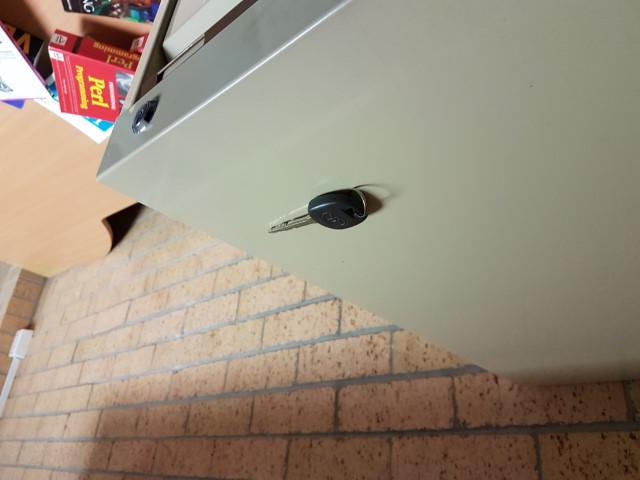key: (266, 184, 373, 239)
